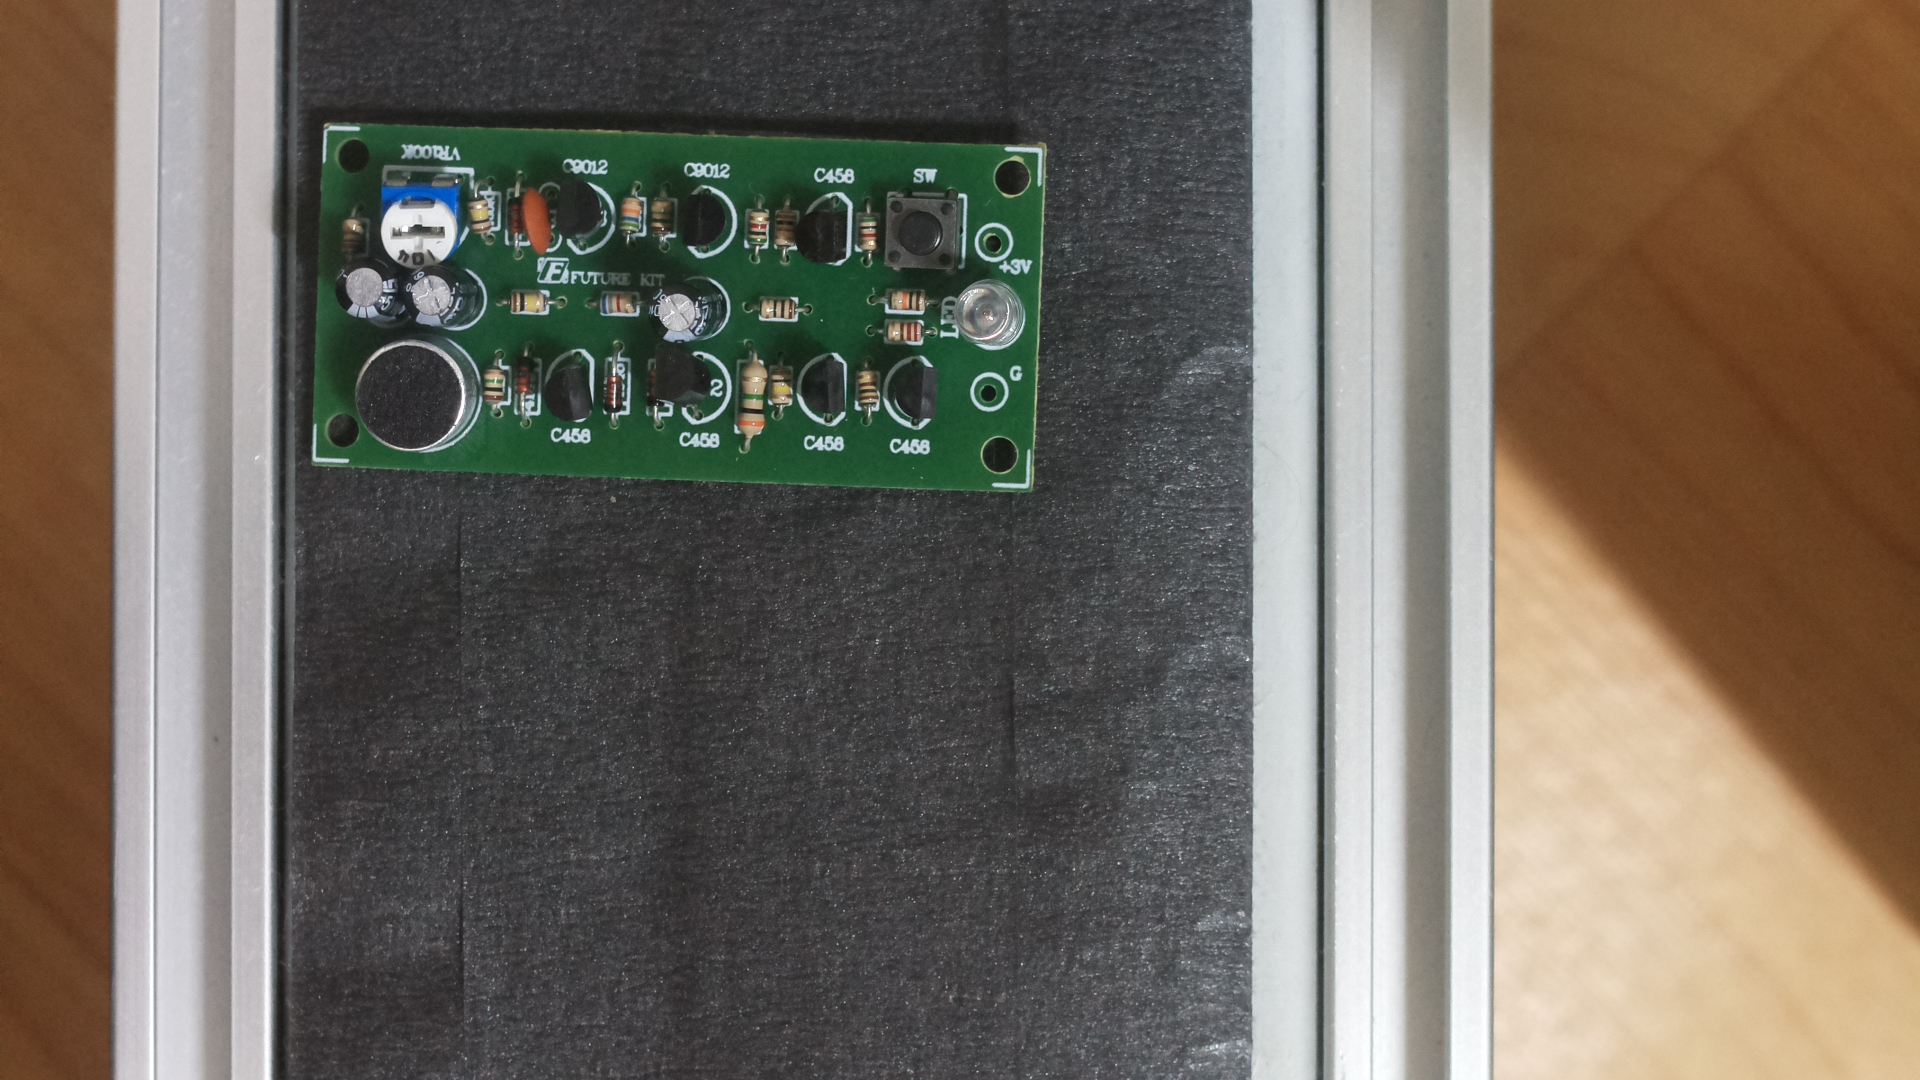A_Normal: (309, 111, 1062, 514)
